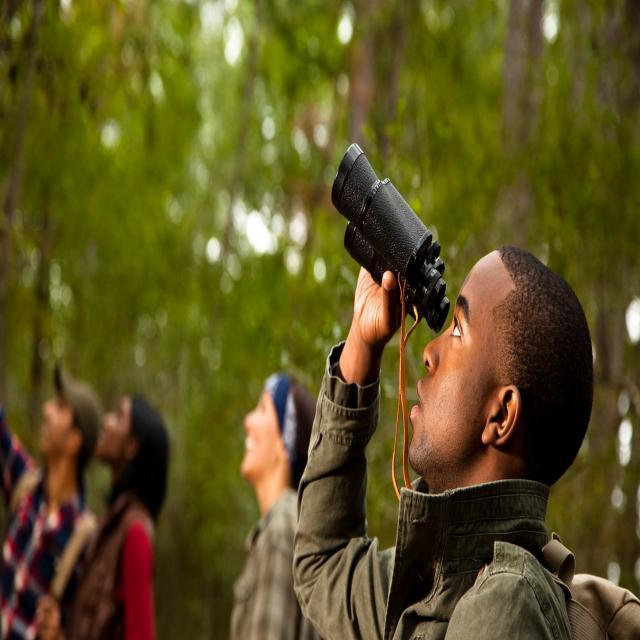Binocular: (307, 125, 463, 331)
